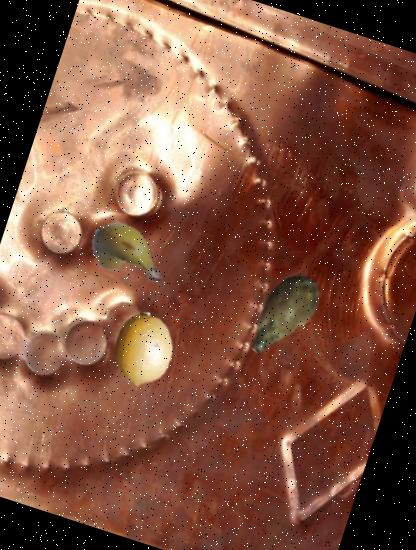Banana: (75, 206, 178, 308)
Cactus: (224, 256, 340, 372)
Lemon: (96, 301, 191, 396)
